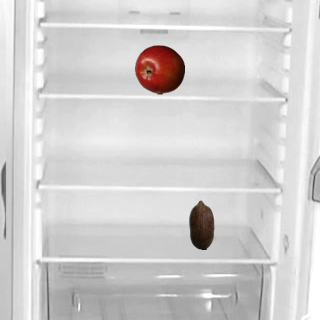Apple Braeburn: (134, 44, 184, 94)
Nut Pecan: (176, 199, 226, 249)
